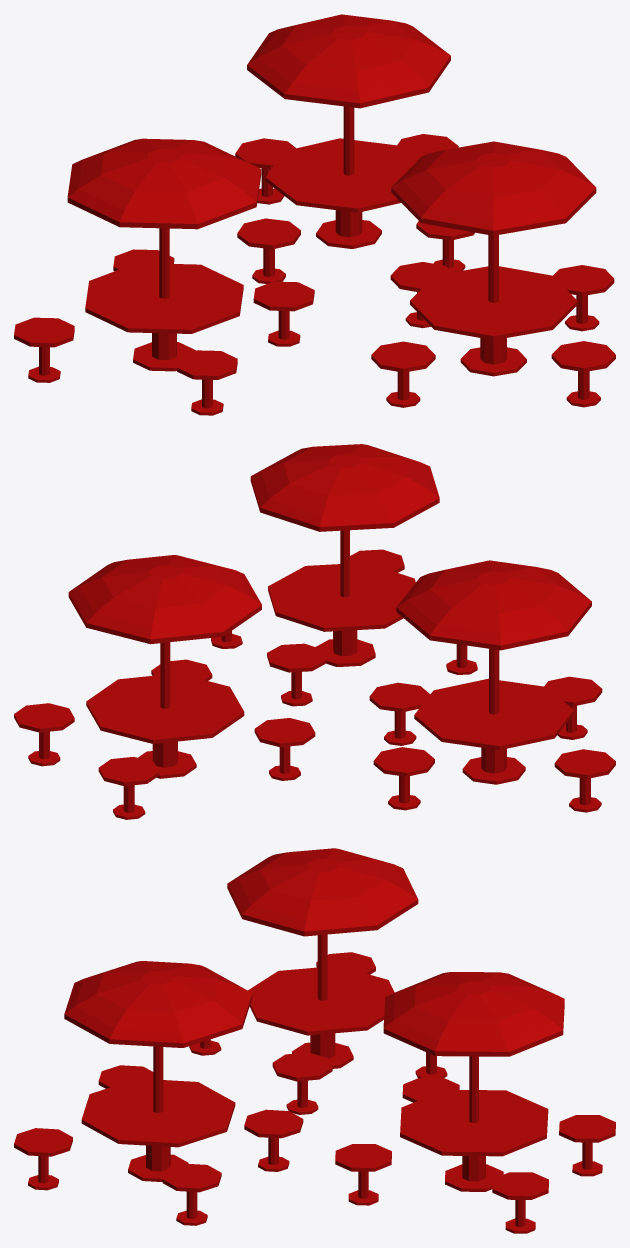
File: Tables.fbx
The picture shows the model from 3 angles, top to bottom: view 1: azimuth 30°, elevation 25°; view 2: azimuth 150°, elevation 25°; view 3: azimuth 270°, elevation 25°; orthographic projection. The views are drawn at different scales.
Parts seen in each view (by area): view 1: Table (×3), Chair1 (×3), Chair2 (×3), Chair (×3), Chair3 (×3); view 2: Table (×3), Chair3 (×3), Chair1 (×3), Chair (×2), Chair2 (×3); view 3: Table (×3), Chair (×3), Chair3 (×2), Chair2 (×2), Chair1 (×3).
Boxes of the visible parts, x1,y1,x2,y2 form: Table (×3): (67, 14, 596, 376); Chair1 (×3): (14, 218, 435, 407); Chair2 (×3): (177, 221, 615, 415); Chair (×3): (253, 134, 614, 346); Chair3 (×3): (113, 138, 451, 328); Table (×3): (68, 444, 591, 784); Chair3 (×3): (98, 643, 434, 819); Chair1 (×3): (254, 644, 615, 812); Chair (×2): (14, 682, 430, 766); Chair2 (×3): (151, 549, 602, 739); Table (×3): (64, 848, 564, 1191); Chair (×3): (162, 1052, 548, 1233); Chair3 (×2): (244, 1109, 615, 1176); Chair2 (×2): (14, 1128, 391, 1205); Chair1 (×3): (98, 952, 459, 1102).
Size of the model in its own units: 11.11 by 4.08 by 11.57.
